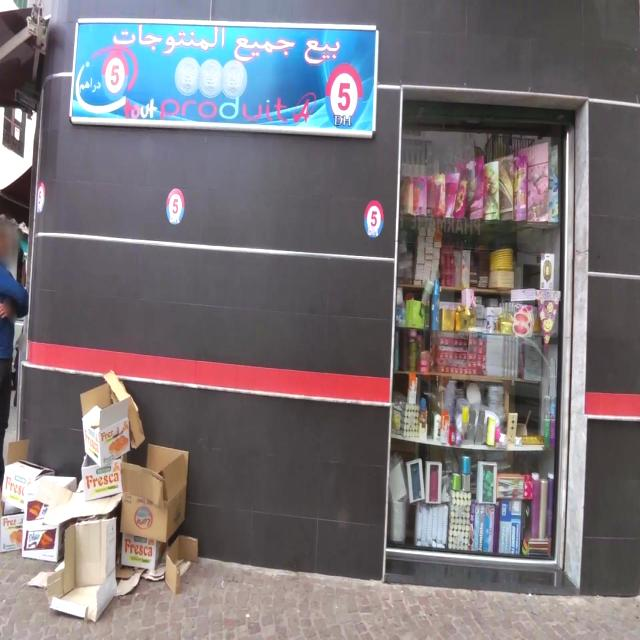car: (0, 238, 29, 492)
